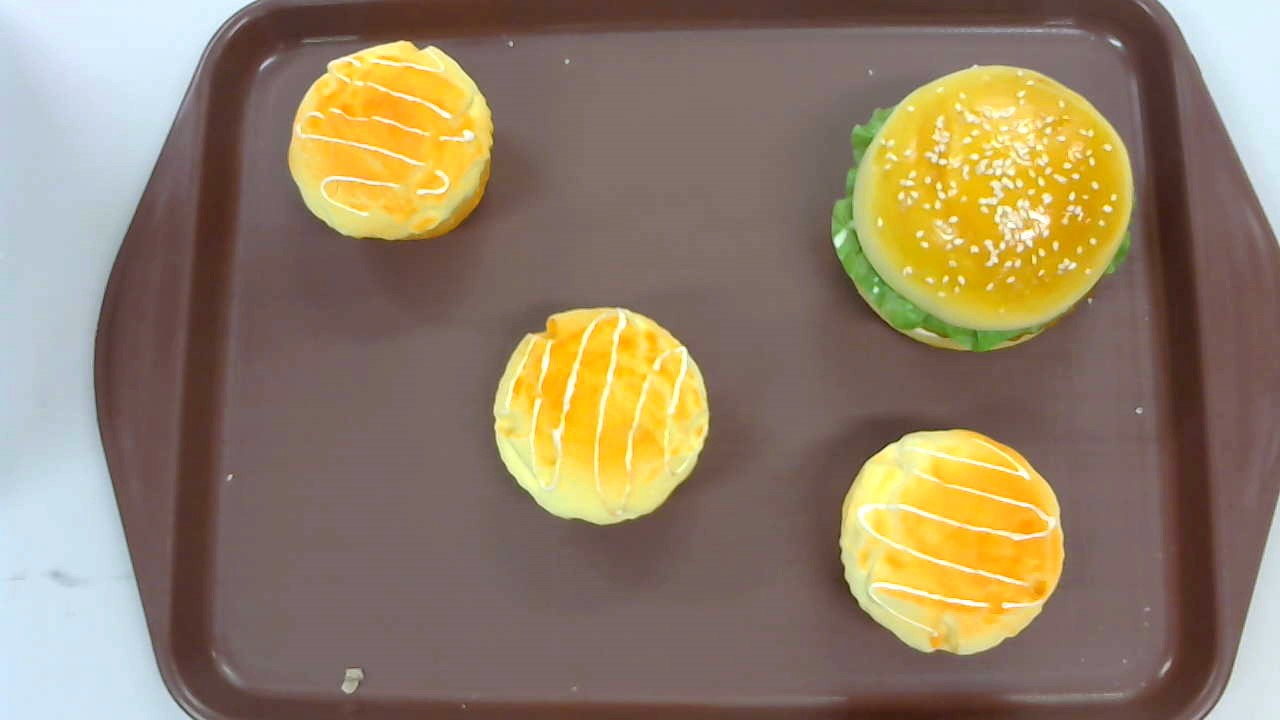cupcake: (839, 429, 1064, 656), (492, 306, 710, 527), (286, 40, 493, 240)
hamburger: (831, 65, 1134, 353)
